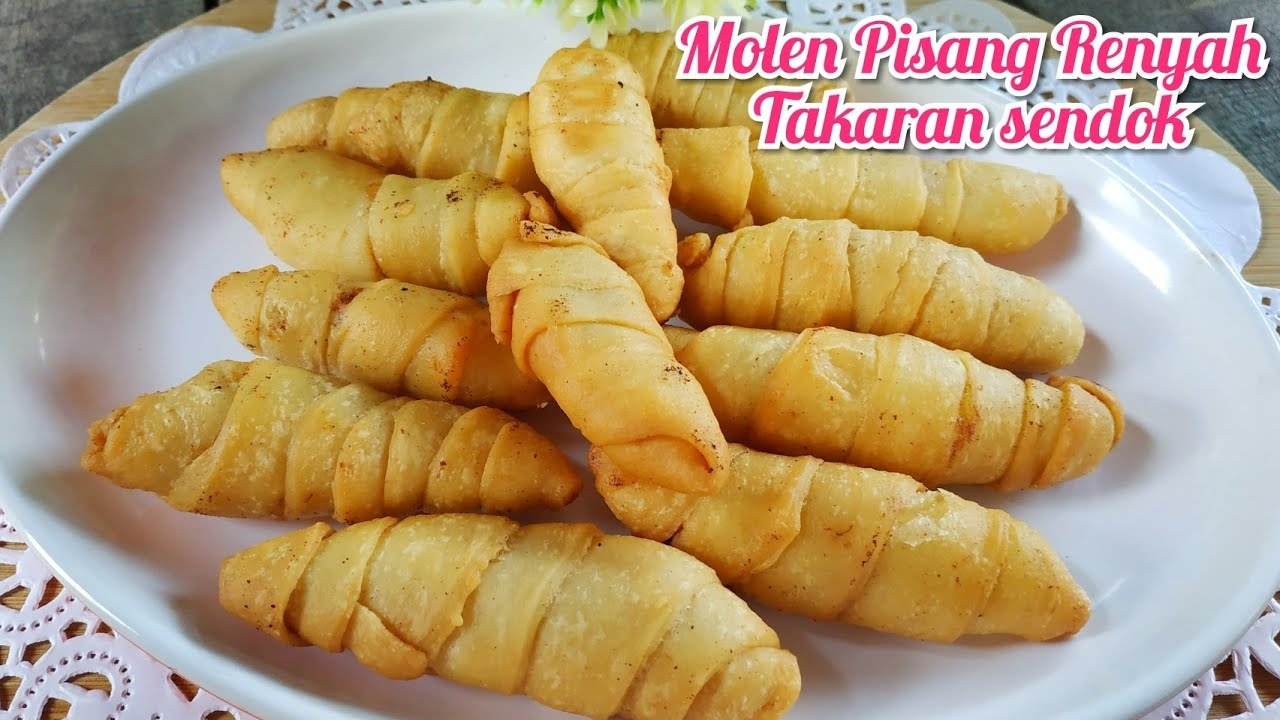pisang_molen: (216, 511, 780, 720), (681, 323, 1121, 491), (82, 361, 539, 517), (483, 219, 729, 494), (682, 216, 1084, 376), (211, 263, 535, 402)
